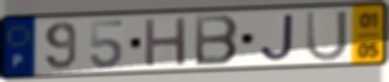5: (87, 18, 124, 70)
9: (42, 20, 79, 72)
B: (193, 13, 241, 67)
H: (143, 15, 190, 69)
J: (258, 12, 296, 63)
U: (304, 8, 350, 63)
